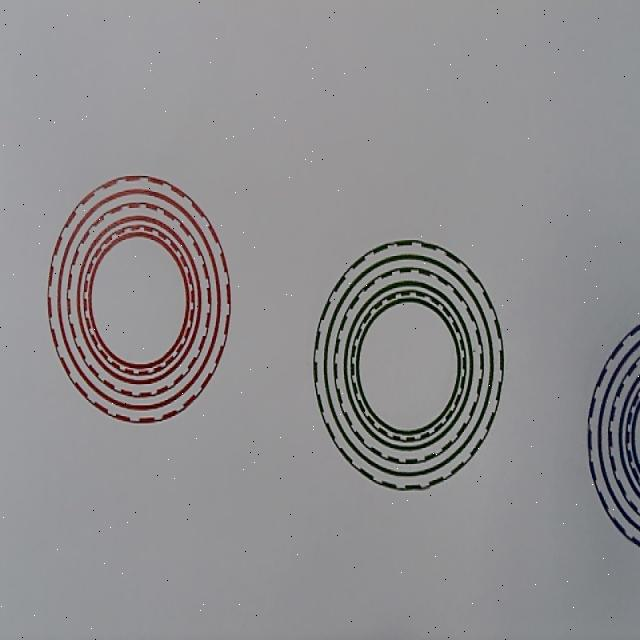g: (313, 238, 504, 491)
red-green-blue: (47, 176, 232, 425)
